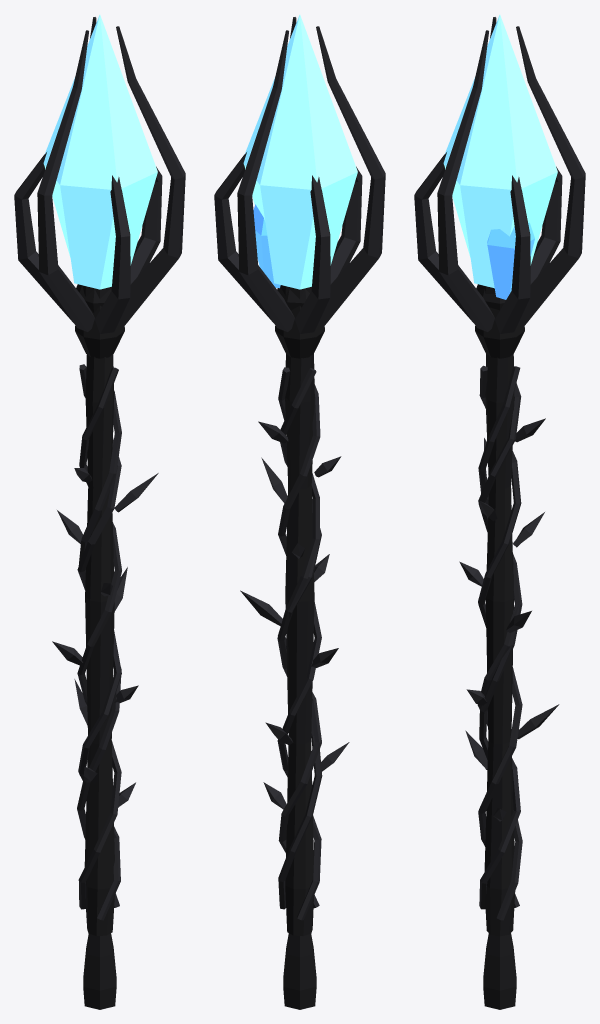
File: staff_blackbriar.glb
3 views of the same model, side by side, from view 1: azimuth 30°, elevation 25°; view 2: azimuth 150°, elevation 25°; view 3: azimuth 270°, elevation 25° (orthographic).
Visible parts, largest first — view 1: Bb_Crystal, Bb_Shaft, Bb_Hold3, Bb_Hold5, Bb_Vine1, Bb_Vine2, Bb_Hold4, Bb_Vine0, Bb_Butt, Bb_Hold2, Bb_Hold0, Bb_Neck; view 2: Bb_Crystal, Bb_Shaft, Bb_Hold1, Bb_Hold3, Bb_Vine1, Bb_Vine0, Bb_Hold2, Bb_Vine2, Bb_Butt, Bb_Hold0, Bb_Hold4, Bb_Neck (+2 smaller); view 3: Bb_Crystal, Bb_Shaft, Bb_Hold5, Bb_Hold1, Bb_Vine0, Bb_Vine1, Bb_Vine2, Bb_Hold0, Bb_Butt, Bb_Hold4, Bb_Crystal2, Bb_Hold2 (+2 smaller).
Boxes of the visible parts, x1,y1,x2,y2 form: Bb_Crystal: (43,14,157,289); Bb_Shaft: (84,354,114,936); Bb_Hold3: (37,30,94,331); Bb_Hold5: (116,26,185,327); Bb_Vine1: (77,367,121,909); Bb_Vine2: (77,364,121,920); Bb_Hold4: (95,175,130,333); Bb_Vine0: (77,391,121,907); Bb_Butt: (83,933,116,1009); Bb_Hold2: (14,152,73,322); Bb_Hold0: (130,166,162,284); Bb_Neck: (75,284,124,358); Bb_Crystal: (243,14,357,289); Bb_Shaft: (285,354,314,935); Bb_Hold1: (237,30,294,331); Bb_Hold3: (316,26,385,327); Bb_Vine1: (277,384,321,920); Bb_Vine0: (277,367,322,909); Bb_Hold2: (295,175,330,333); Bb_Vine2: (278,368,321,908); Bb_Butt: (283,933,316,1009); Bb_Hold0: (214,152,273,322); Bb_Hold4: (330,166,362,284); Bb_Neck: (275,285,324,358); Bb_Crystal: (443,14,557,288); Bb_Shaft: (484,354,515,936); Bb_Hold5: (437,30,494,331); Bb_Hold1: (516,26,585,327); Bb_Vine0: (478,366,522,920); Bb_Vine1: (478,365,522,907); Bb_Vine2: (477,383,522,909); Bb_Hold0: (495,175,530,333); Bb_Butt: (483,933,516,1009); Bb_Hold4: (414,152,473,322); Bb_Crystal2: (487,222,534,299); Bb_Hold2: (530,166,562,284).
Size of the model in its own units: 0.384 by 2.48 by 0.3902.
